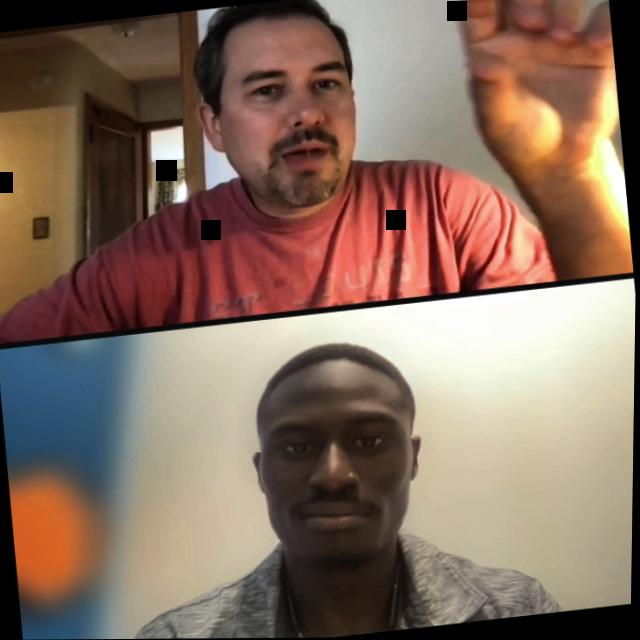NO-Mask: (243, 339, 436, 578), (192, 0, 369, 220)
